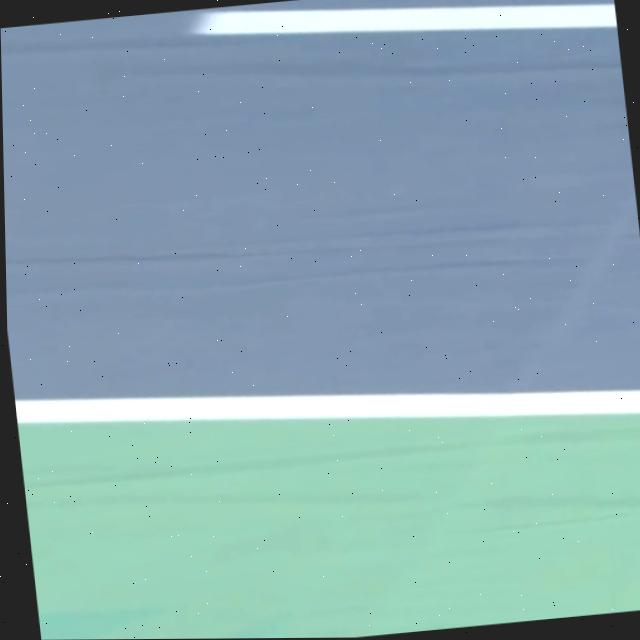center: (191, 2, 616, 33)
right: (14, 389, 640, 422)
